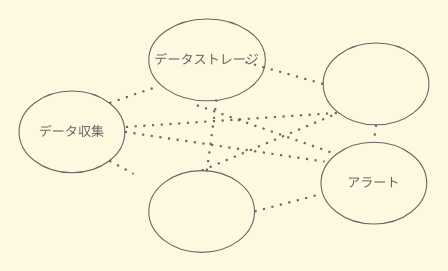
This 448x271 diagram has some shape labels left out. Here are the shapes that lost their labels. From the top down, the centre of each, then its label:
At point (375, 83): "可視化".
At point (201, 210): "分析とレポート".
